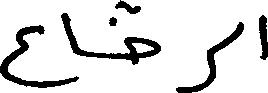X: (0, 20, 43, 92), (127, 0, 158, 69), (178, 41, 214, 92), (63, 8, 78, 89), (260, 10, 267, 64), (233, 17, 242, 45)
